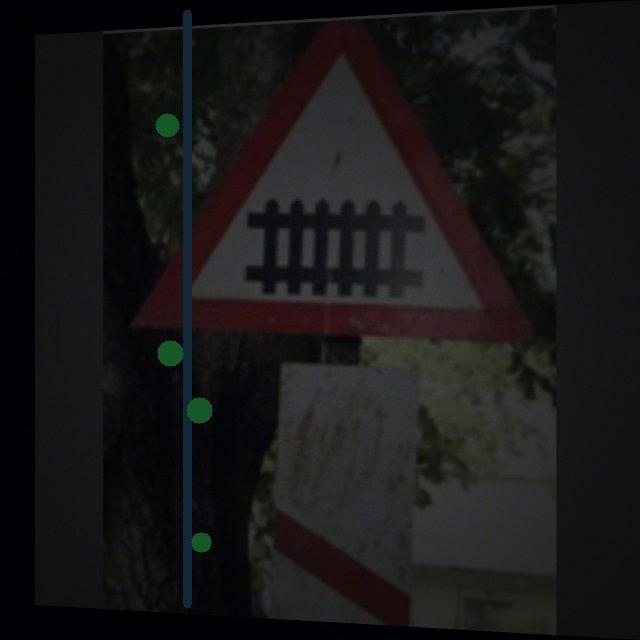Guarded_Level_Crossing: (150, 28, 515, 332)
